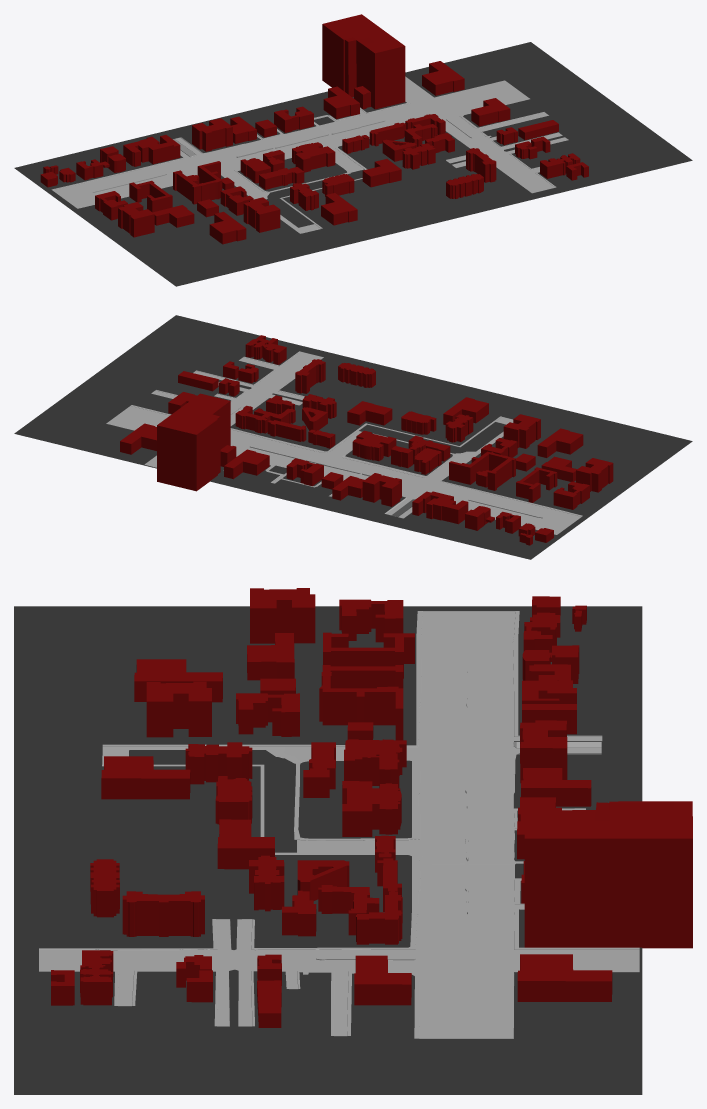
The model's file is GNVScene.fbx.
3 views of the same model, one above another, from view 1: azimuth 30°, elevation 25°; view 2: azimuth 150°, elevation 25°; view 3: azimuth 270°, elevation 25° (orthographic). The views are drawn at different scales.
Parts seen in each view (by area): view 1: Plane, Buildings, Road_re; view 2: Plane, Buildings, Road_re; view 3: Plane, Buildings, Road_re.
Boxes of the visible parts, x1,y1,x2,y2 form: Plane: [14, 42, 692, 286]; Buildings: [40, 14, 588, 244]; Road_re: [51, 76, 568, 233]; Plane: [14, 315, 692, 559]; Buildings: [120, 335, 613, 545]; Road_re: [106, 351, 582, 534]; Plane: [14, 606, 642, 1094]; Buildings: [51, 588, 692, 1027]; Road_re: [39, 611, 639, 1038].
Bounding box in the file's own units: 1860 × 194 × 1092.
